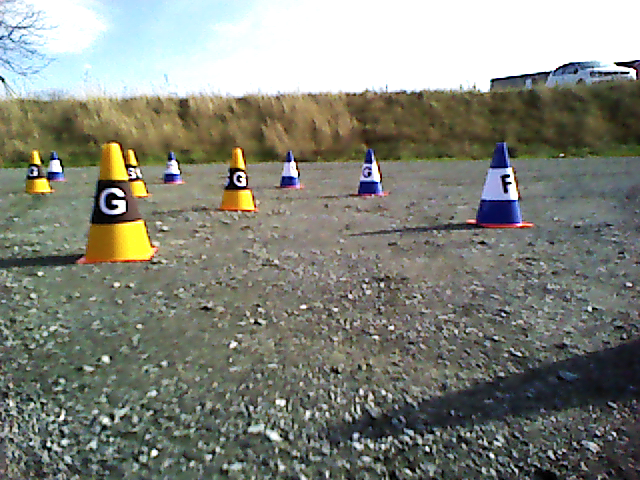bluecone: (477, 142, 523, 223), (358, 150, 385, 194), (281, 151, 300, 185), (165, 152, 182, 181), (47, 152, 64, 178)
yellowcone: (88, 143, 151, 260), (223, 148, 254, 209), (25, 150, 53, 192), (128, 148, 150, 195)
